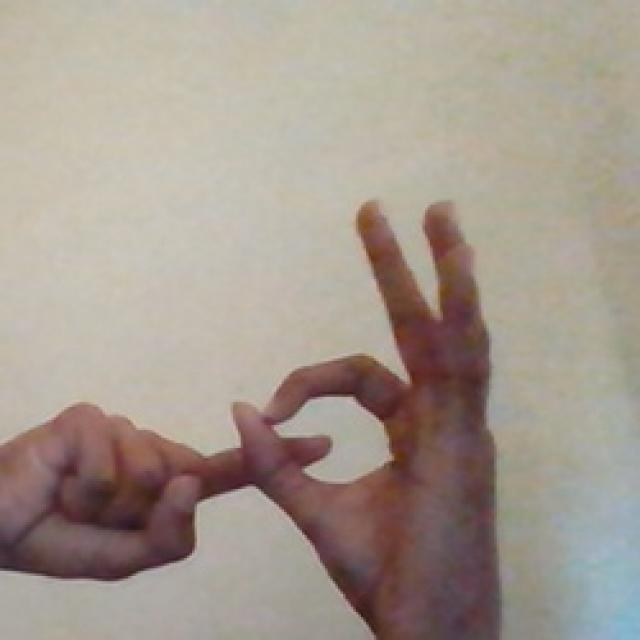Alphabet-Q: (0, 159, 500, 640)
